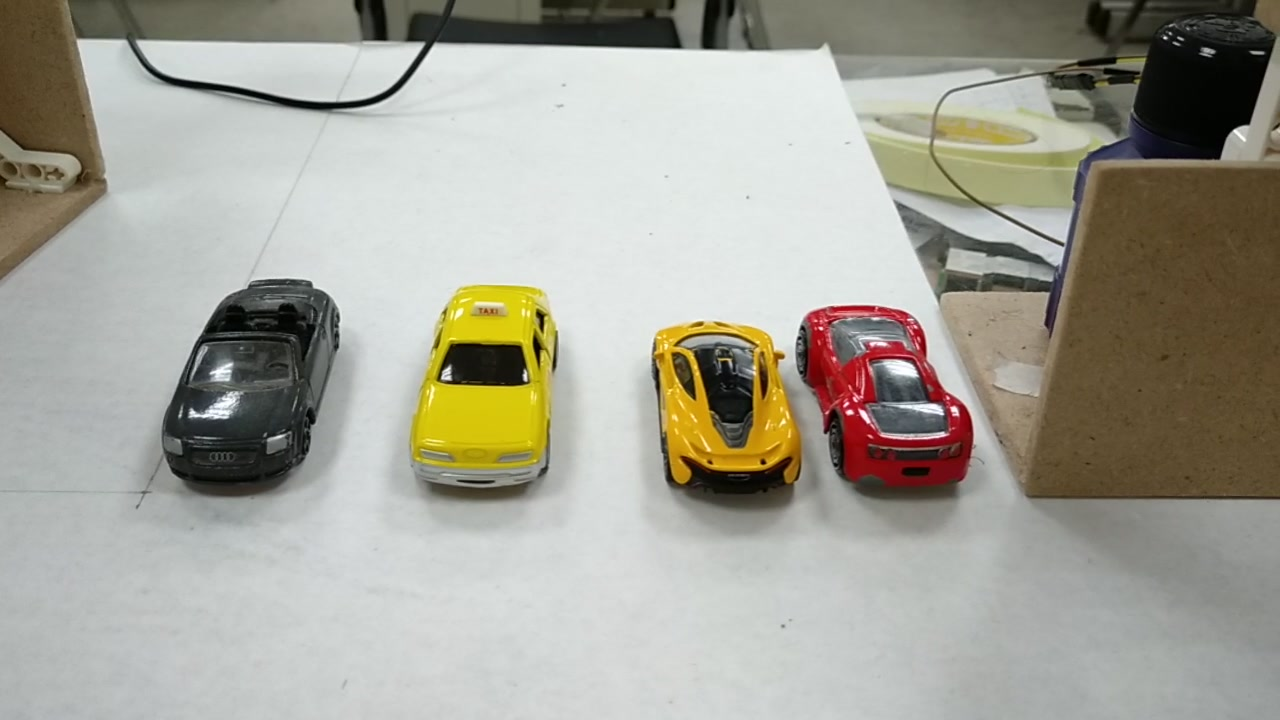car: (156, 282, 345, 489), (637, 315, 803, 515), (411, 279, 565, 493), (802, 304, 973, 494)
